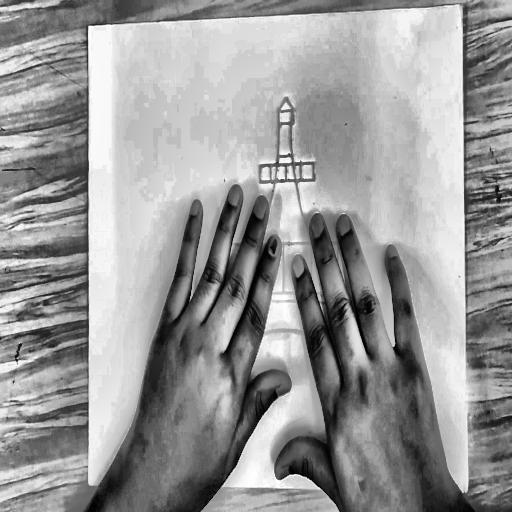bottom_left: (86, 482, 91, 489)
bottom_right: (465, 486, 469, 494)
eiffel-tower: (167, 71, 392, 394)
top_left: (86, 23, 91, 31)
top_right: (459, 2, 464, 11)
